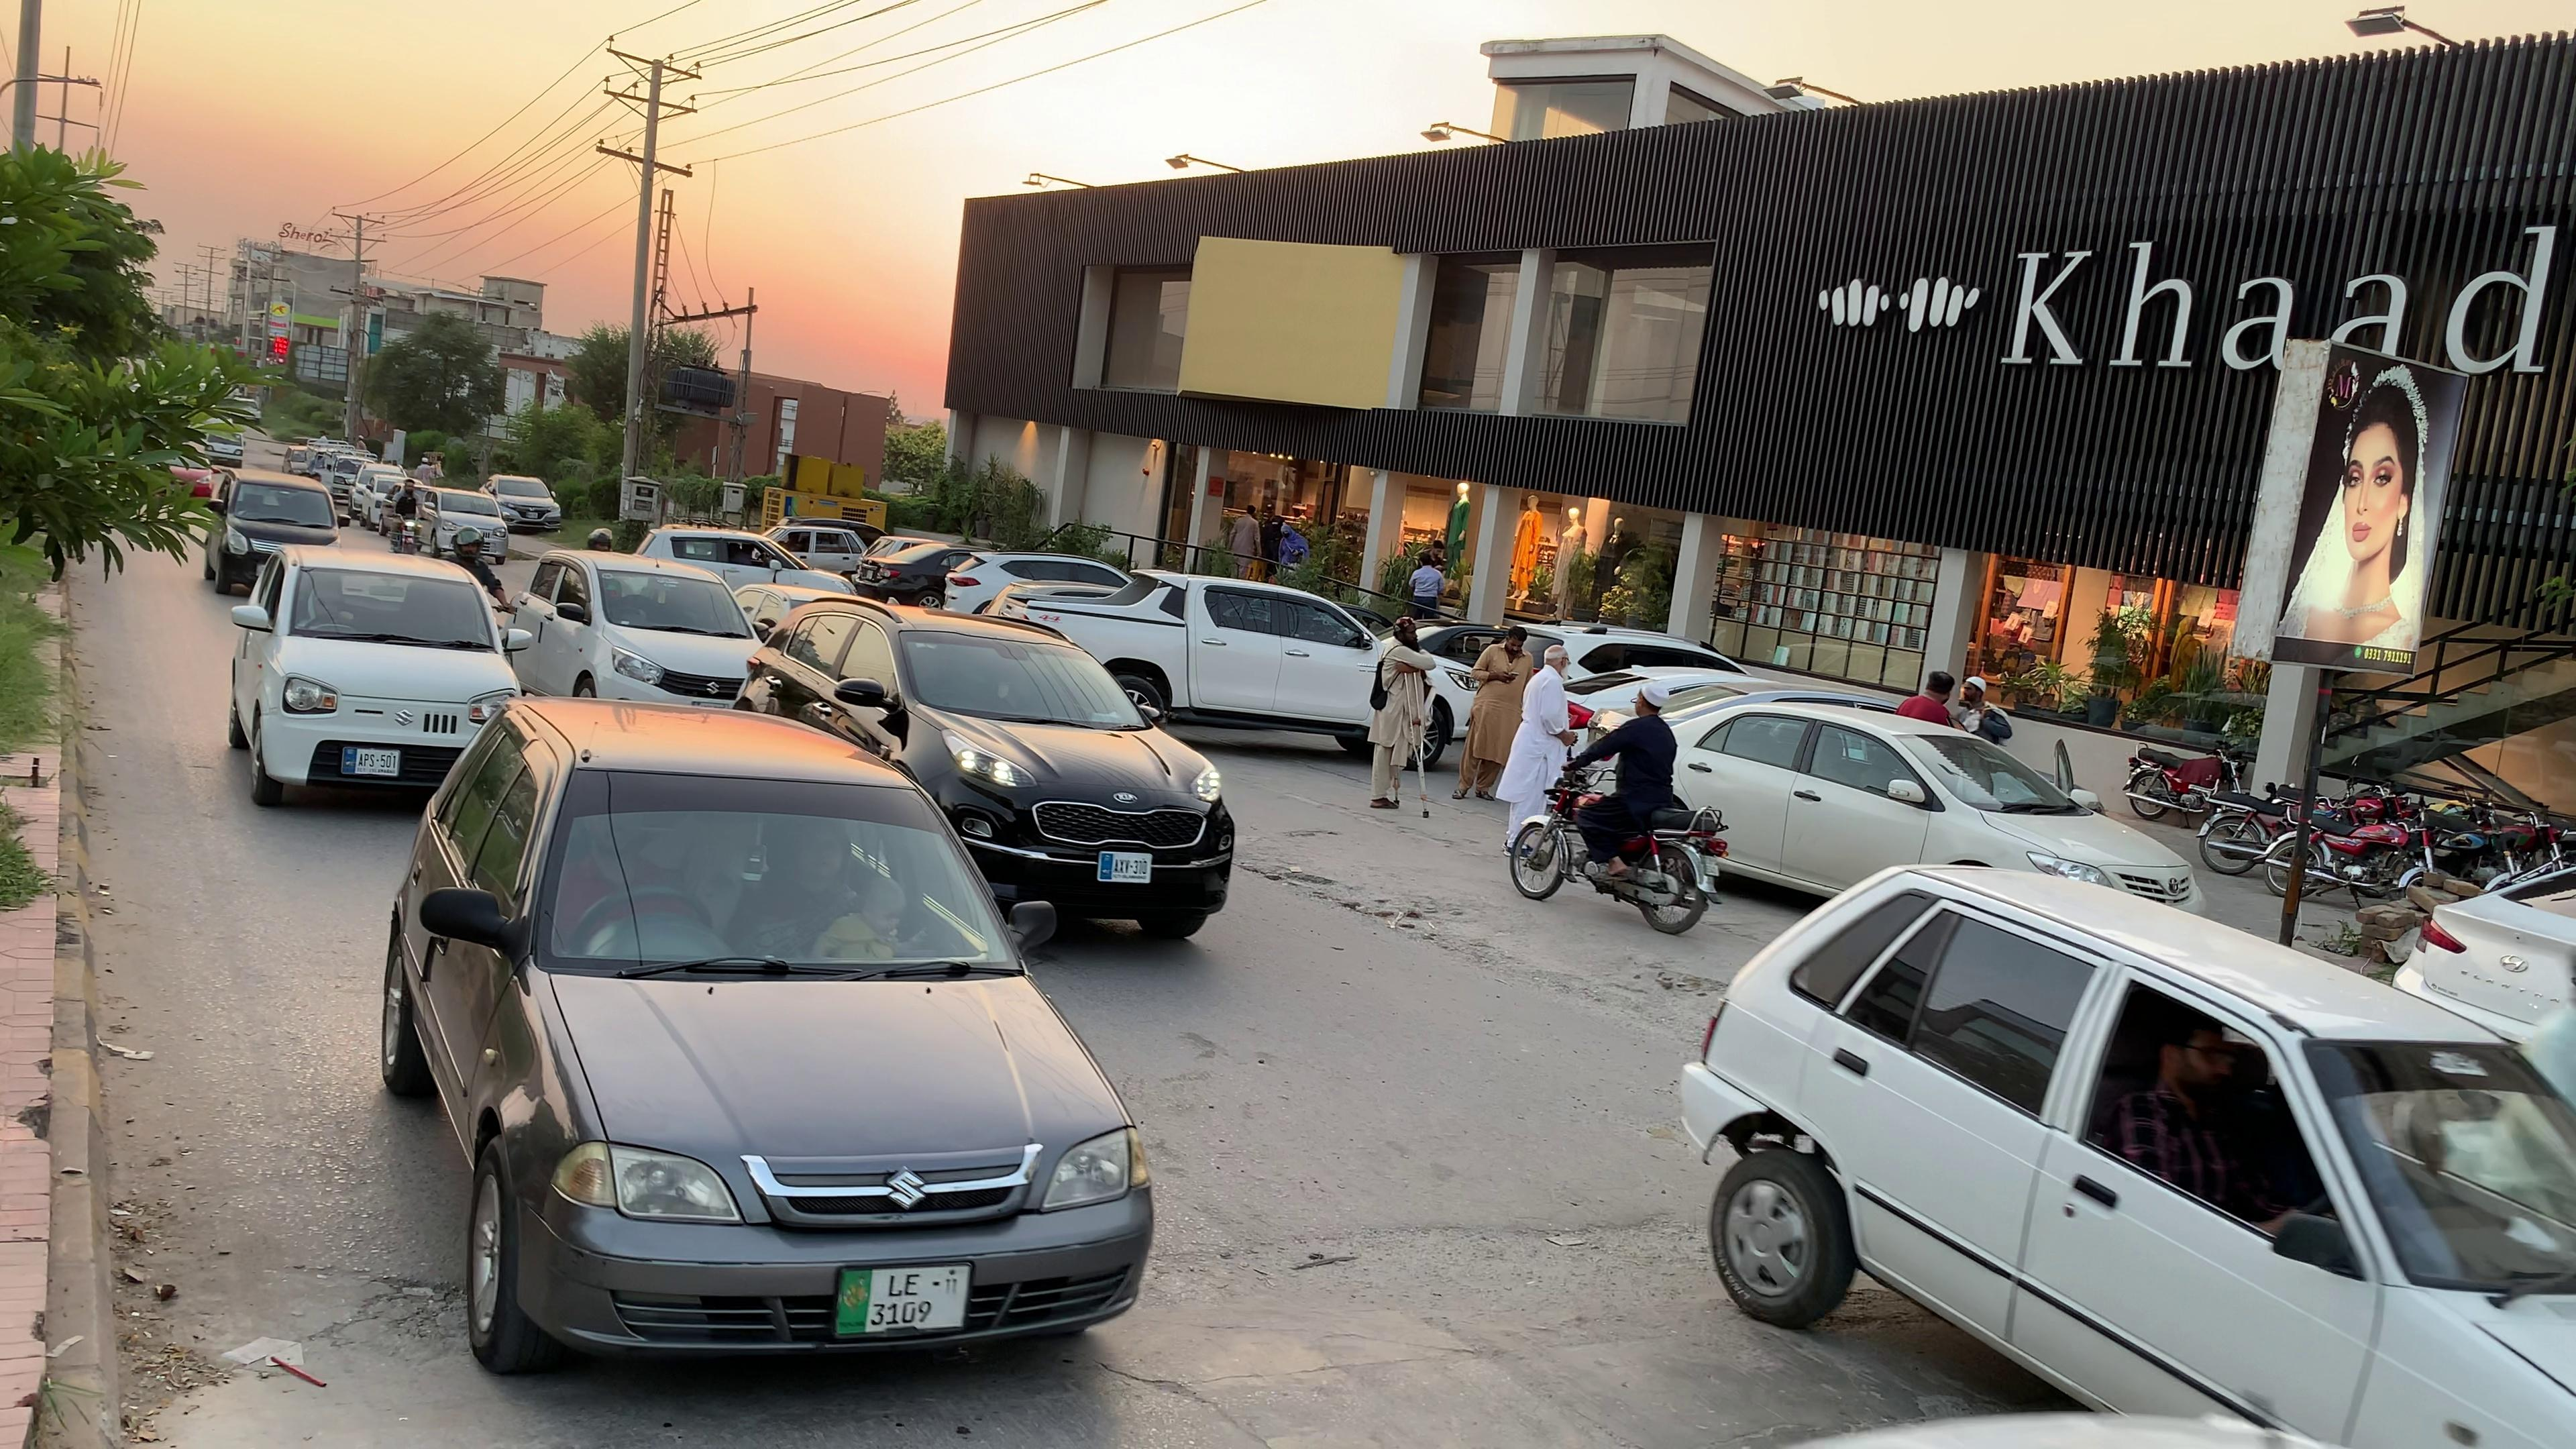windshield: (511, 752, 1047, 1000), (283, 563, 511, 671)
